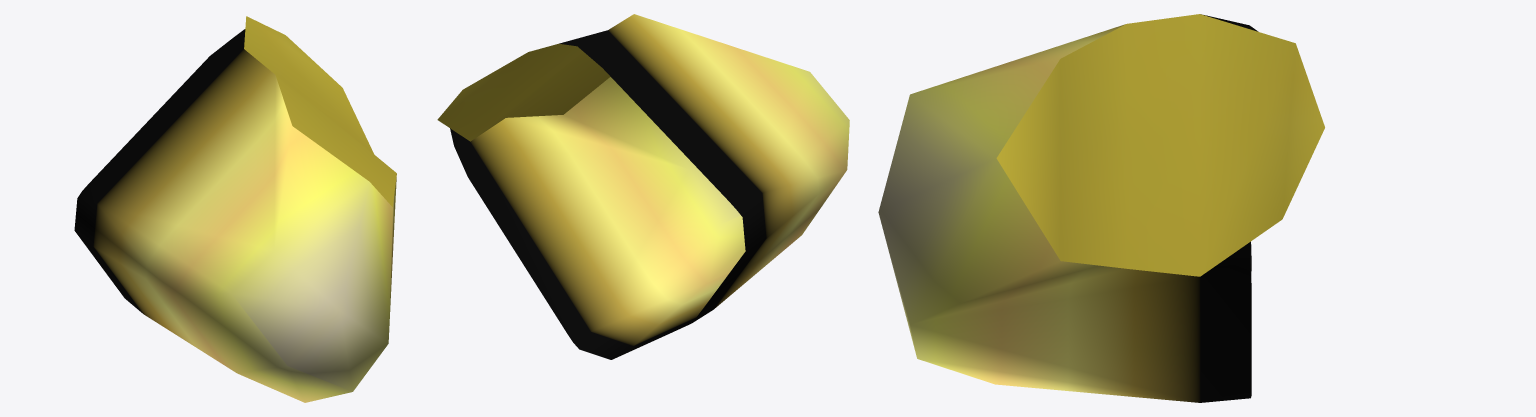
The model's file is wOnigiriBitten.fbx.
3 views of the same model, side by side, from view 1: azimuth 30°, elevation 25°; view 2: azimuth 150°, elevation 25°; view 3: azimuth 270°, elevation 25° (orthographic). The views are drawn at different scales.
Parts seen in each view (by area): view 1: mPartsA_E; view 2: mPartsA_E; view 3: mPartsA_E.
Part boxes in pixels (bbox=[...]): mPartsA_E: bbox=[74, 16, 396, 402]; mPartsA_E: bbox=[437, 14, 849, 359]; mPartsA_E: bbox=[878, 14, 1324, 402].
Bounding box in the file's own units: 0.1176 × 0.1176 × 0.1786.
